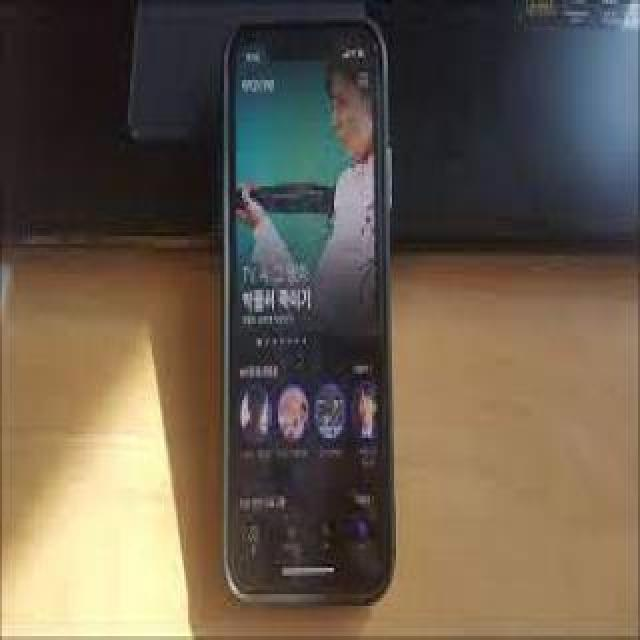smart phone: (208, 0, 415, 640)
